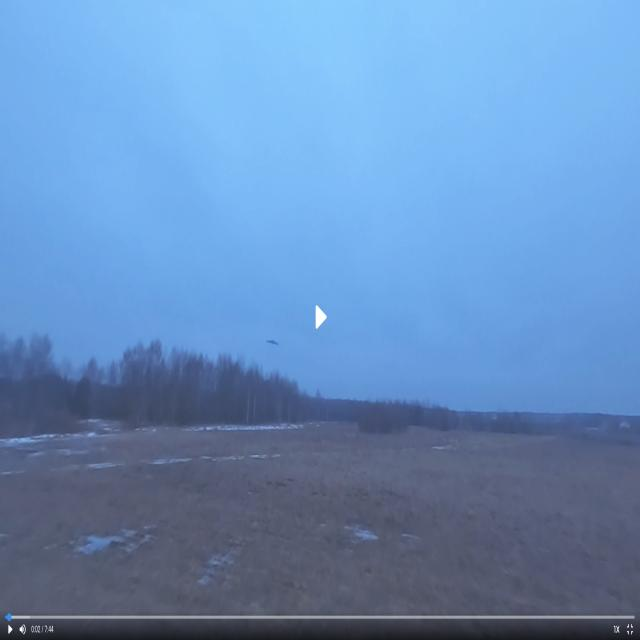planedrone: (266, 336, 280, 350)
